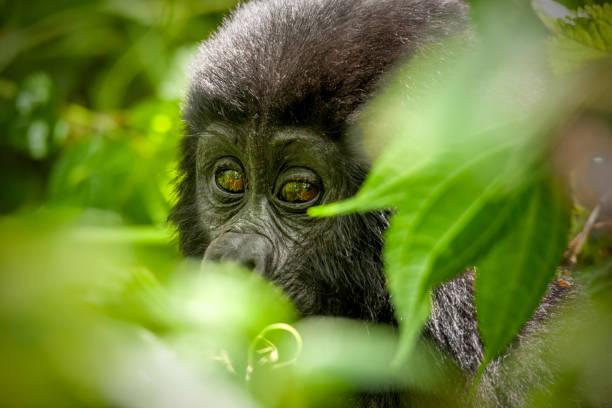goriile_montagne: (122, 1, 541, 401)
